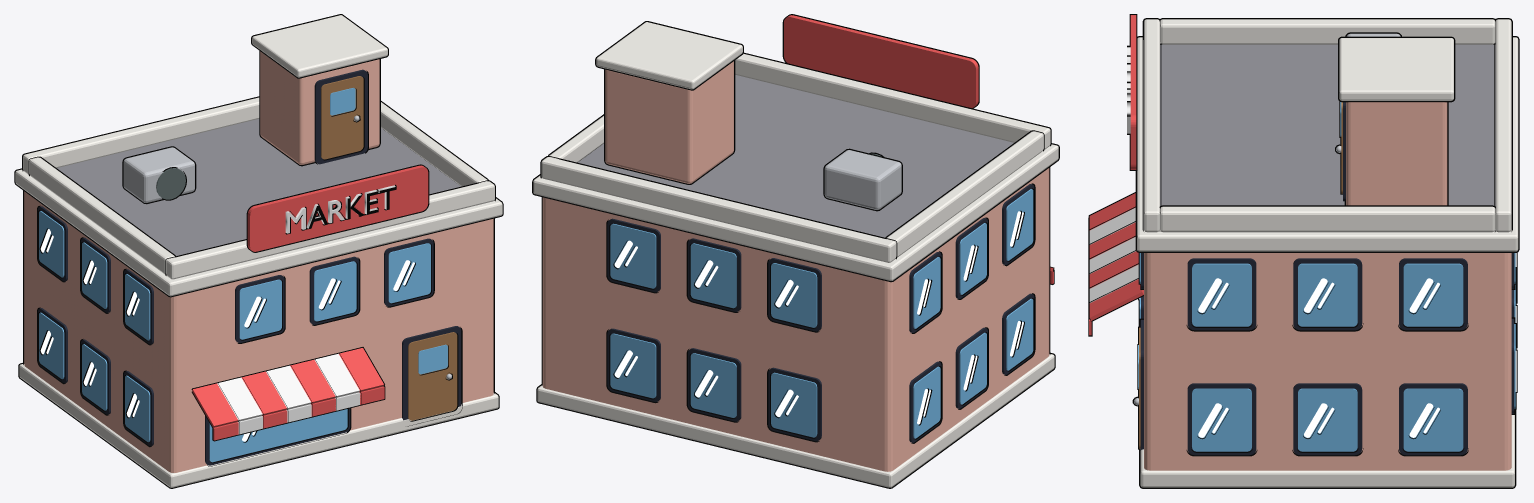
File: Building_Short_Market.fbx
The picture shows the model from 3 angles, left to right: view 1: azimuth 30°, elevation 25°; view 2: azimuth 150°, elevation 25°; view 3: azimuth 270°, elevation 25°; orthographic projection. The views are drawn at different scales.
Visible parts, largest first — view 1: Building_Short_Market; view 2: Building_Short_Market; view 3: Building_Short_Market.
Part boxes in pixels (<box>): Building_Short_Market: <box>14,14,503,488</box>; Building_Short_Market: <box>532,14,1059,488</box>; Building_Short_Market: <box>1088,14,1519,488</box>.
Size of the model in its own units: 20.72 by 18.34 by 18.78.
